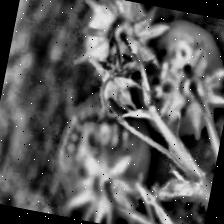Gray Mold: (68, 31, 154, 114)
